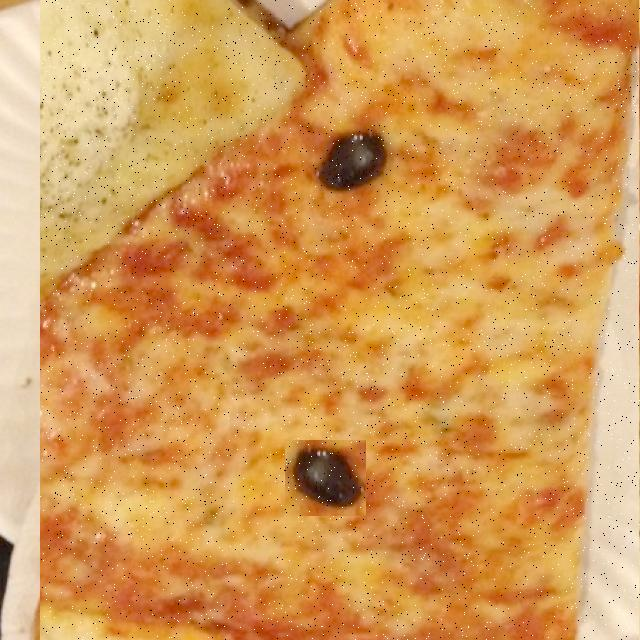Olives: (285, 441, 366, 516)
Pizza: (40, 0, 640, 640)
